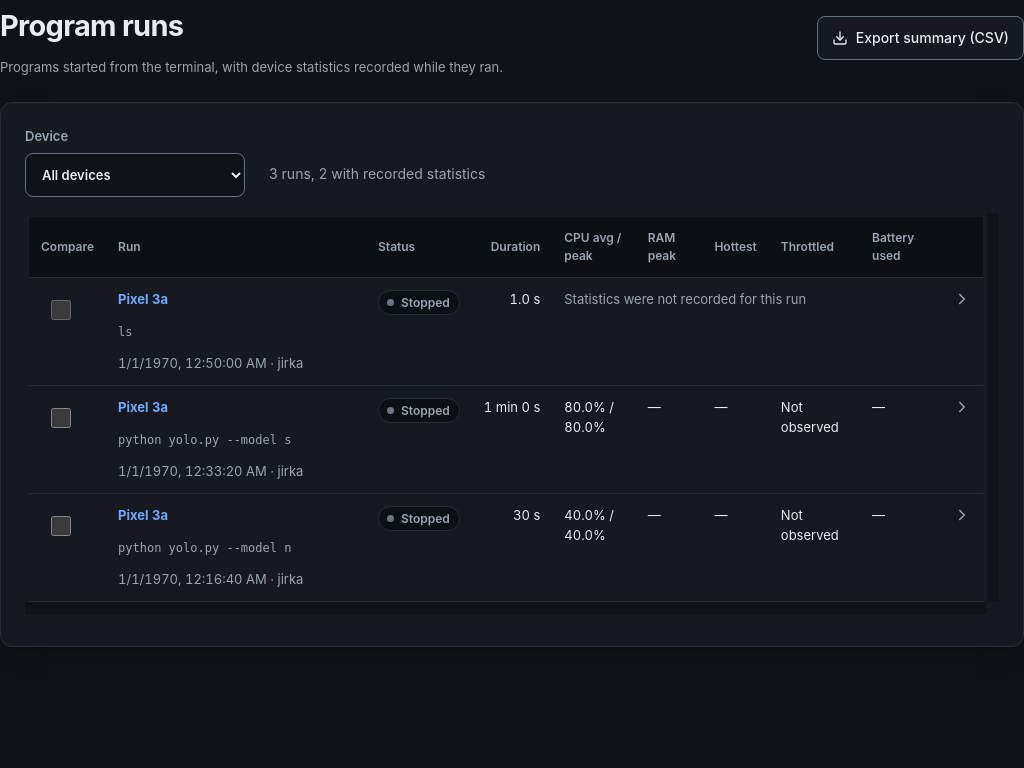
it: program runs › lists program runs with summaries and compares two of them
Check: the text "3 runs, 2 with recorded statistics" is shown, box [269,164,485,185]
Check: the text "80.0% / 80.0%" is shown, box [552,386,636,494]
Step 1. Click the checkbox named "Compare run started 1/1/1970, 12:33:20 AM" → (61, 418), box [51,408,71,428]
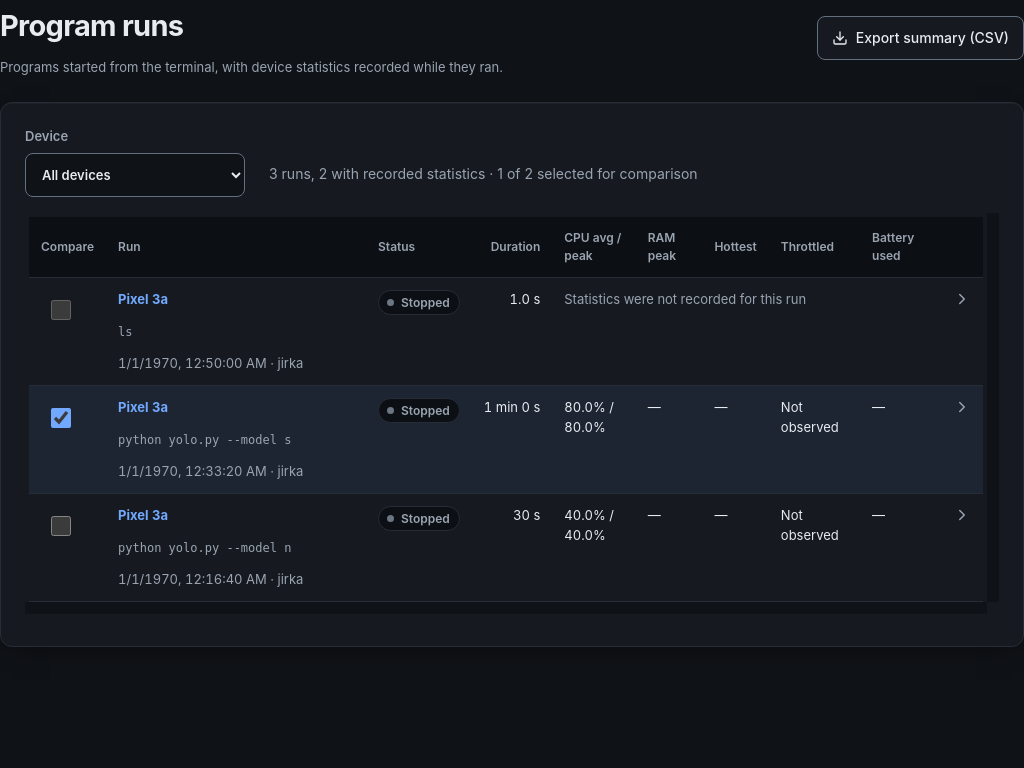
Step 2. Click the checkbox named "Compare run started 1/1/1970, 12:16:40 AM" → (61, 526), box [51,516,71,536]
(page scrolled)
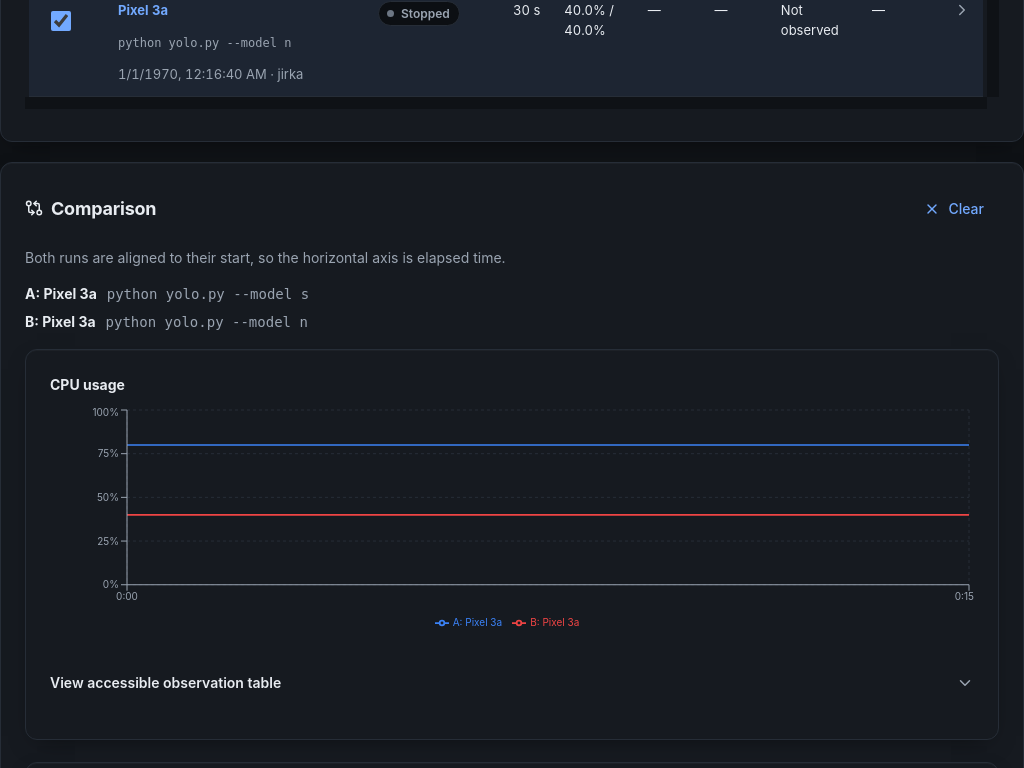
Check: the heading "CPU usage" is shown, box [50,374,125,395]
